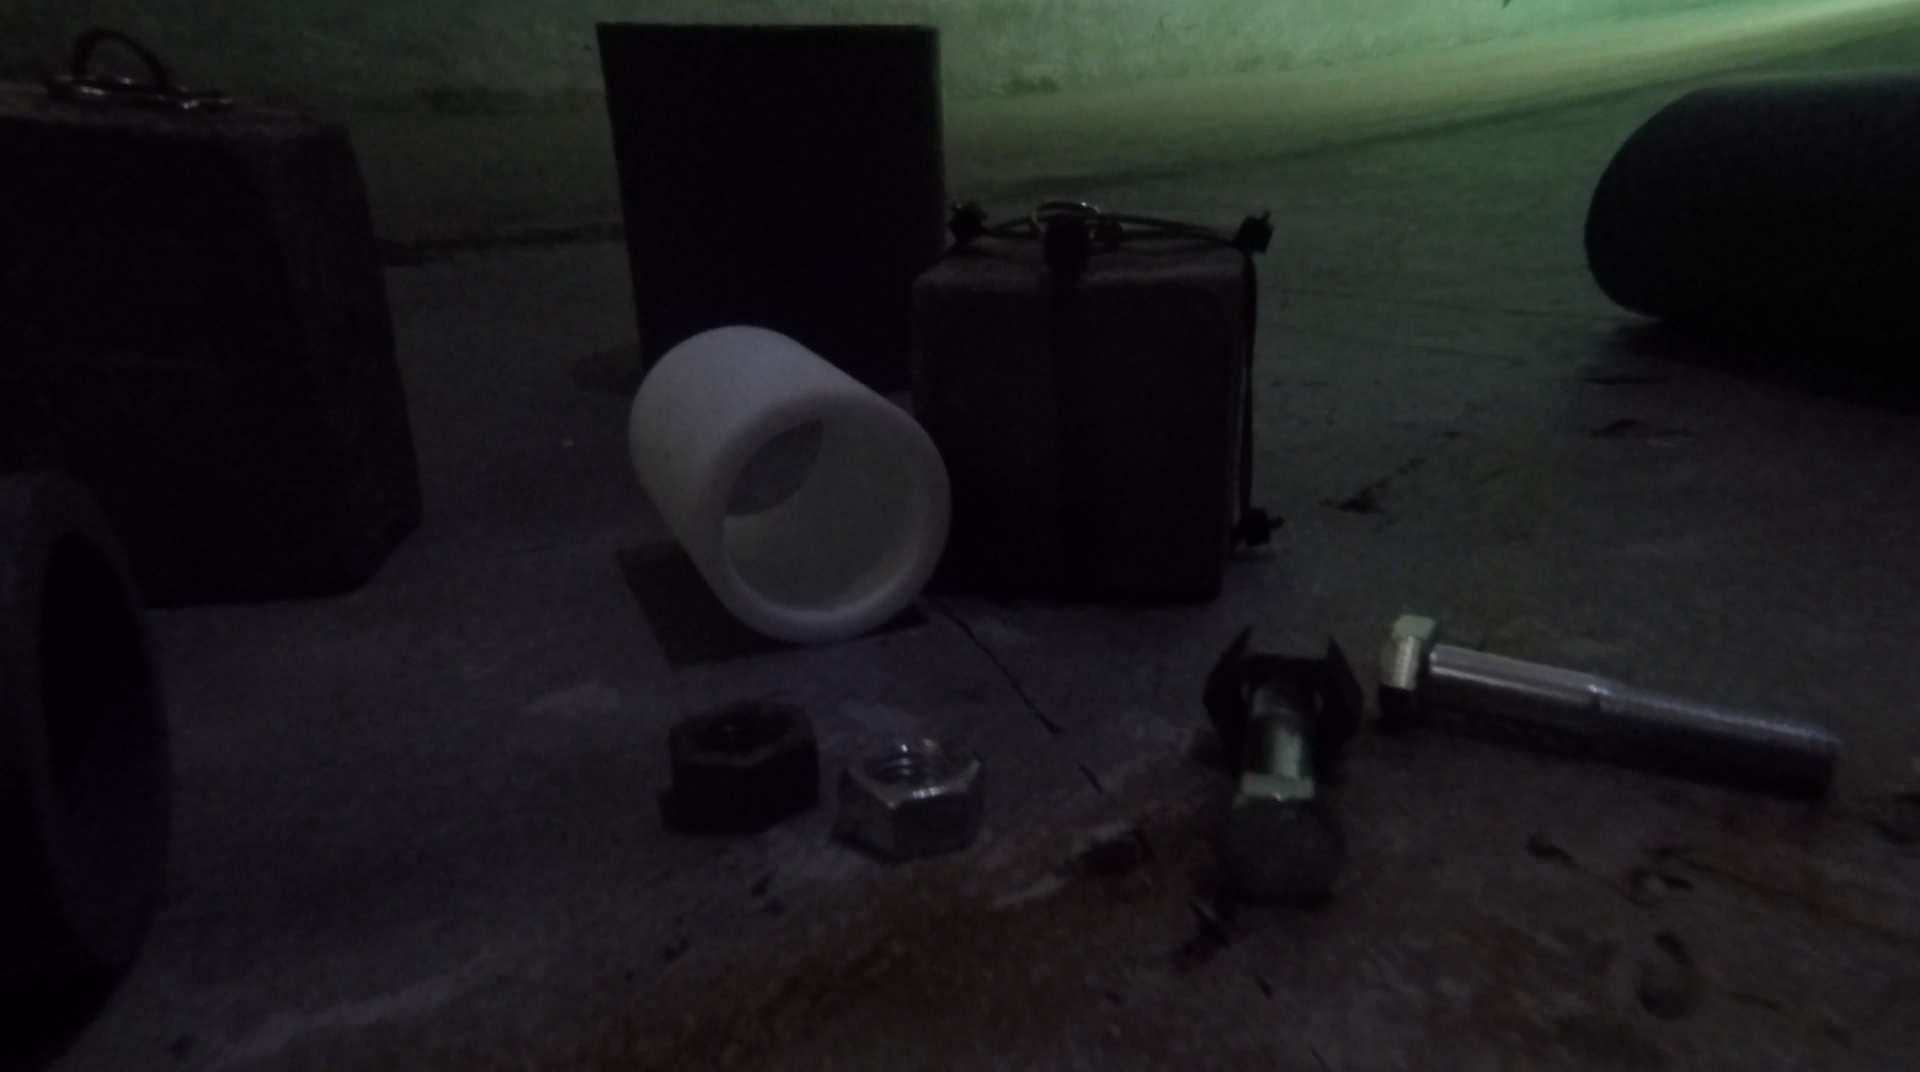bolt: (1375, 612, 1842, 800), (1213, 666, 1342, 905)
led_block: (1, 22, 425, 603), (905, 191, 1284, 605)
nut: (658, 698, 823, 835), (1203, 622, 1364, 762), (837, 733, 986, 865)
pipe: (595, 20, 943, 392), (625, 324, 951, 645), (1, 465, 171, 1057), (1582, 73, 1920, 364)
